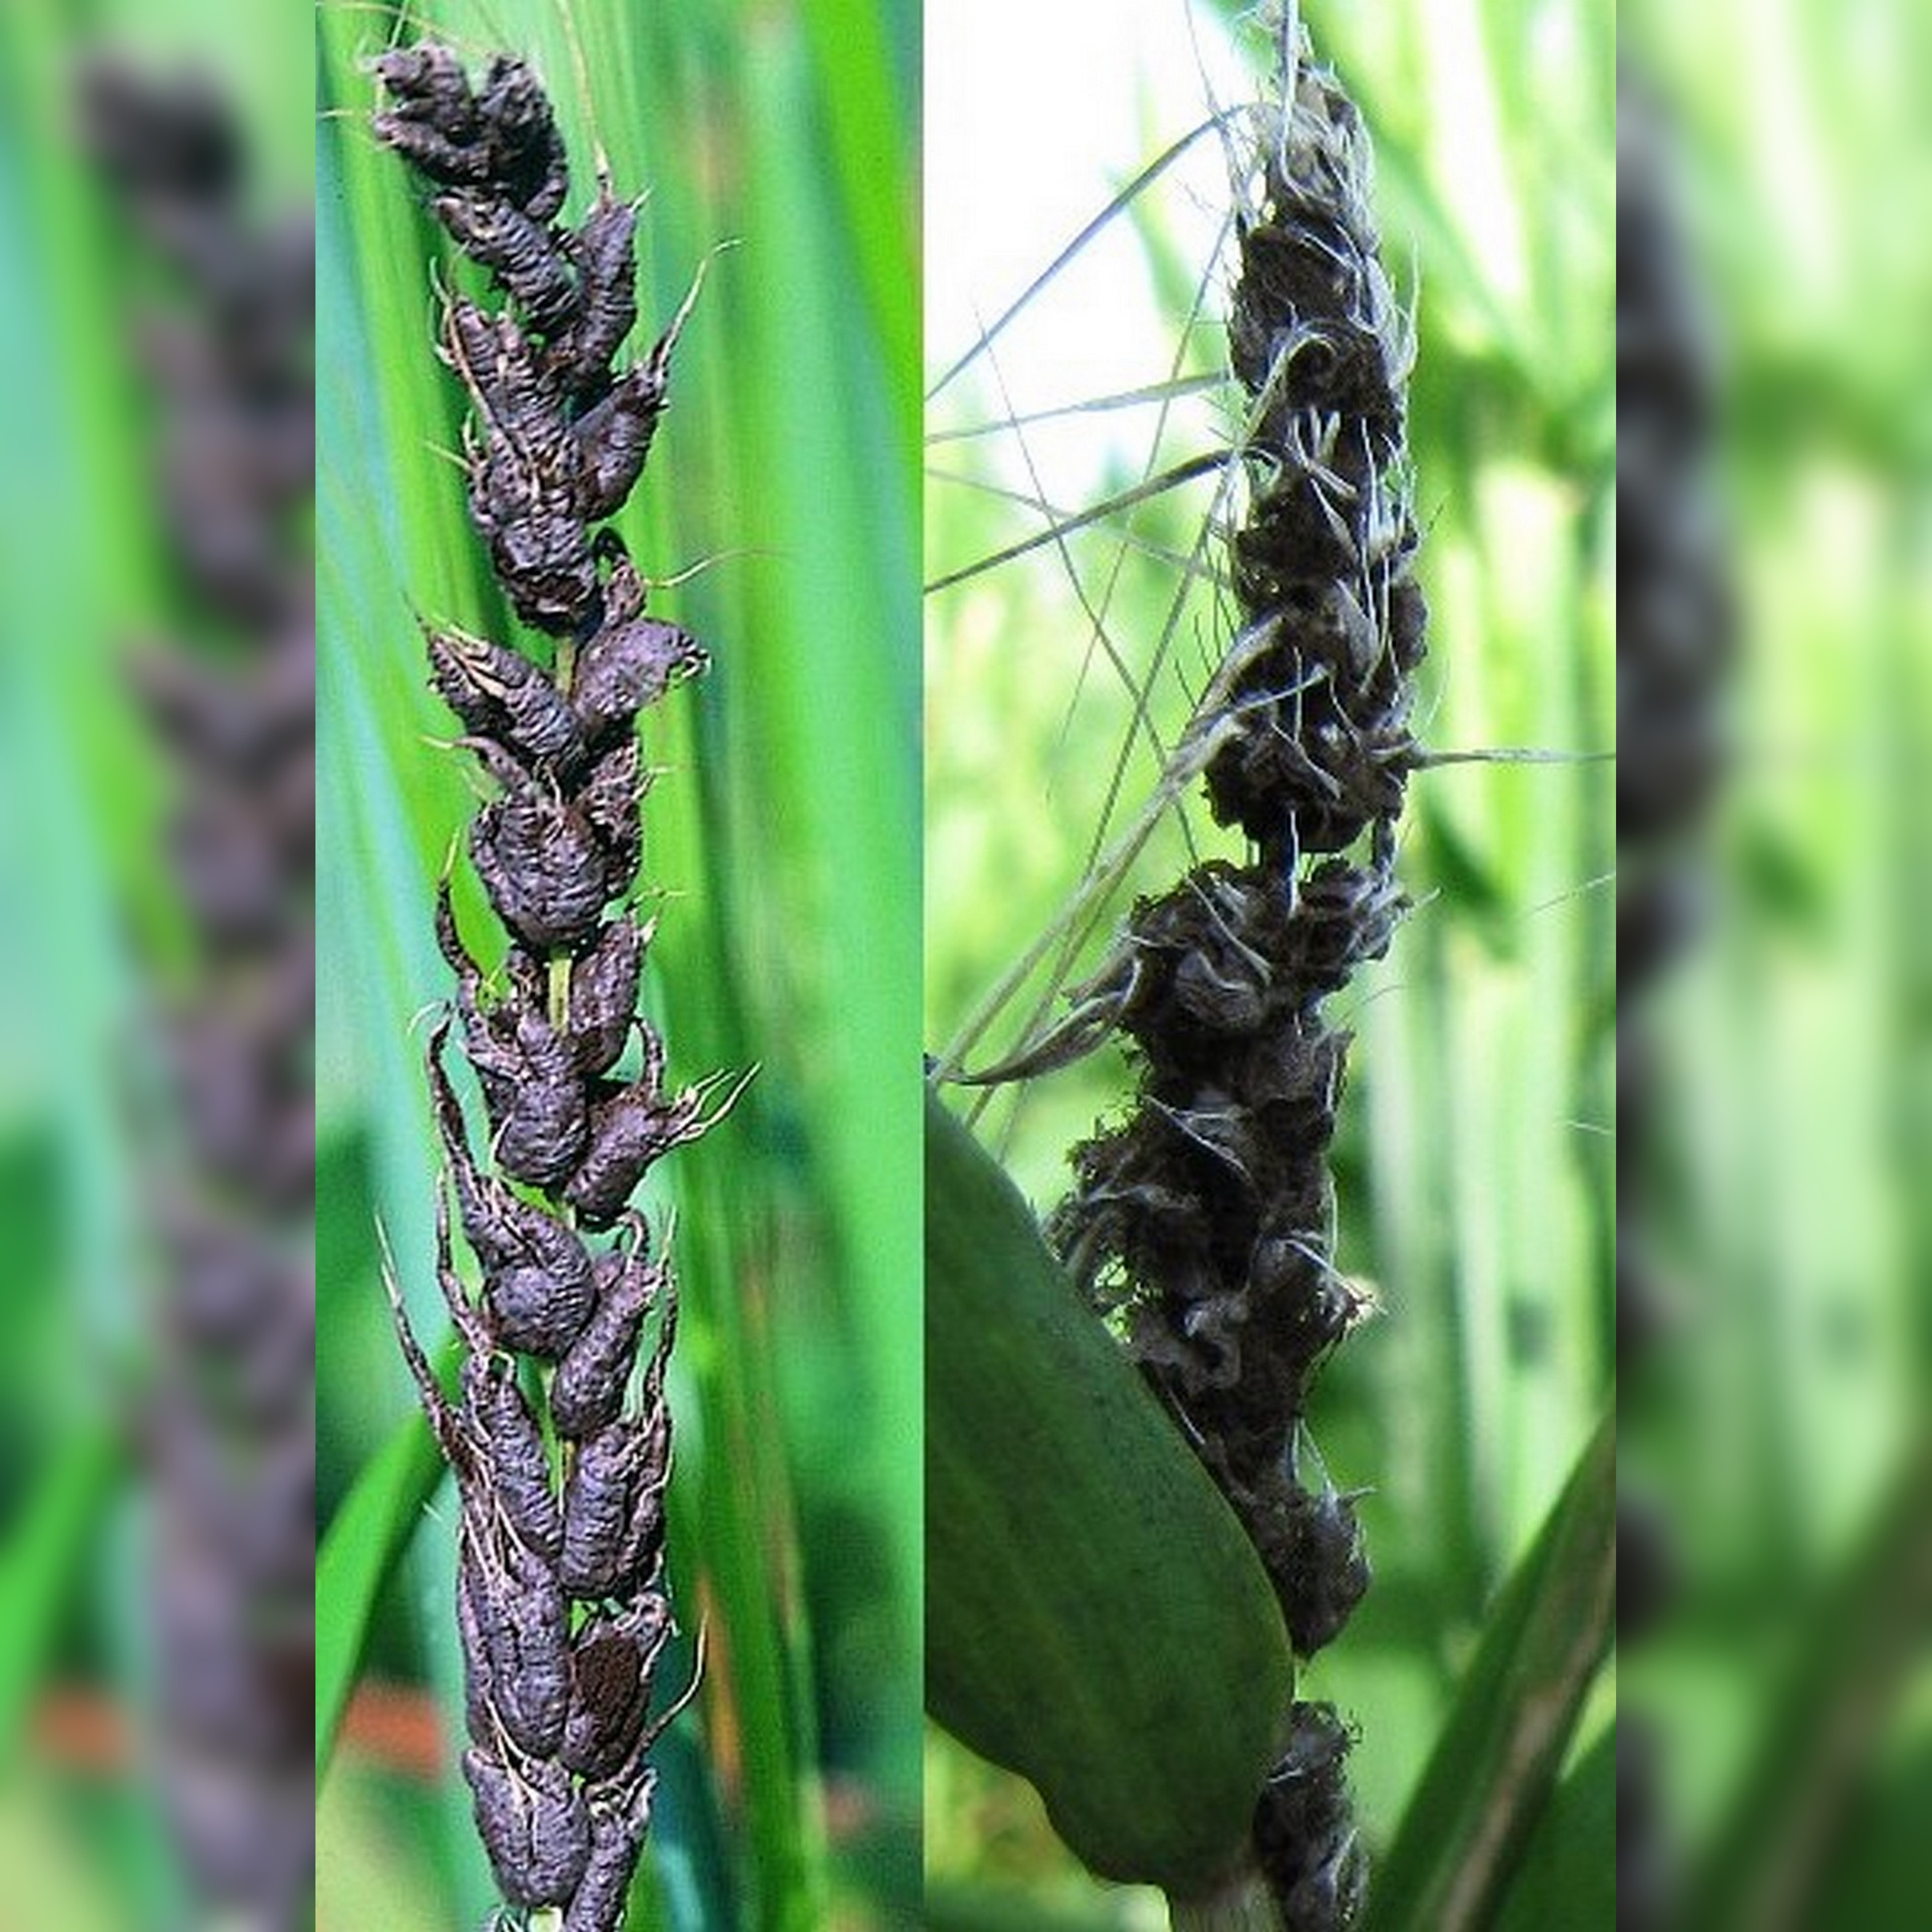Wheat Loose Smut: (363, 46, 787, 1886), (1099, 60, 1417, 1546)
